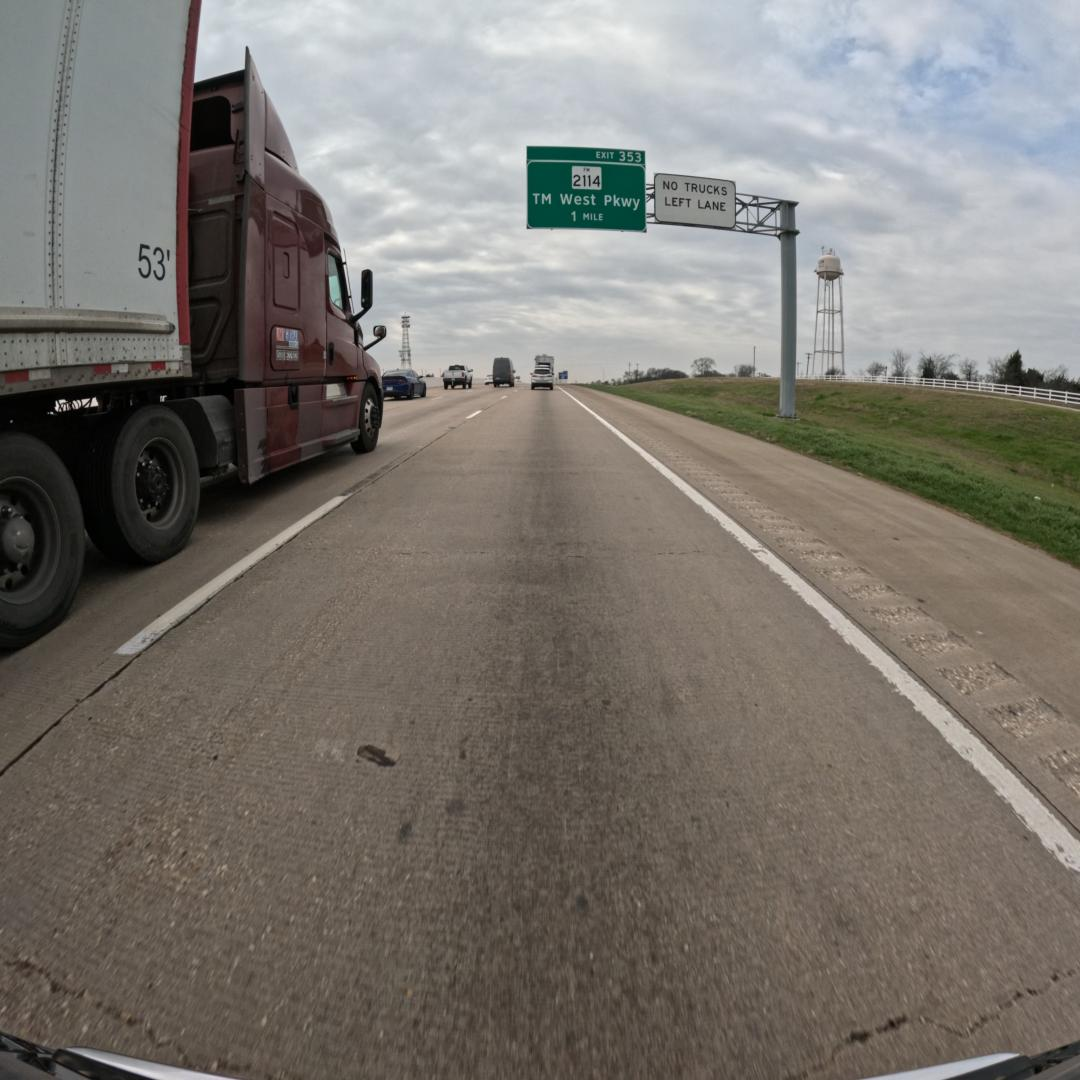lane0: (0, 390, 1080, 1080)
lane1: (0, 385, 513, 776)
